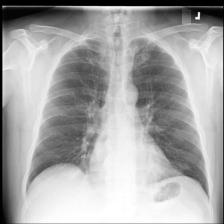normal: (21, 34, 214, 200)
